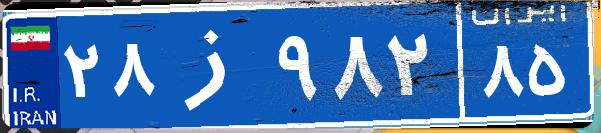2: (385, 28, 445, 110), (57, 26, 110, 107)
5: (525, 38, 570, 115)
8: (330, 28, 385, 110), (475, 38, 525, 113), (110, 28, 158, 105)
9: (273, 28, 330, 110)
ز: (158, 15, 273, 115)
